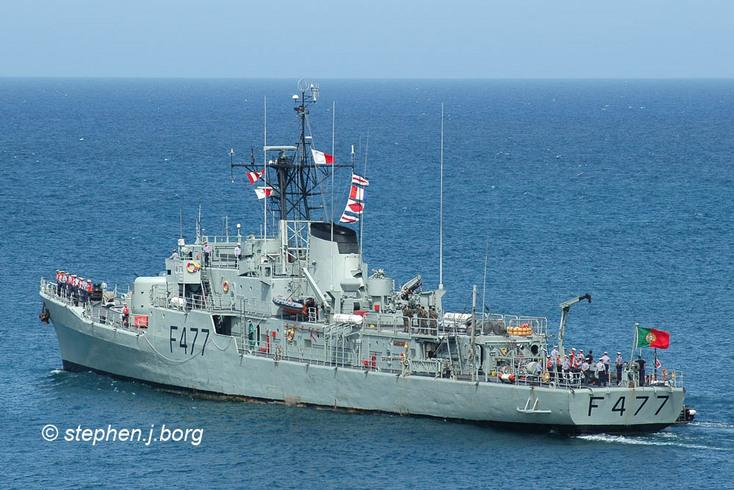warship: (34, 88, 687, 432)
